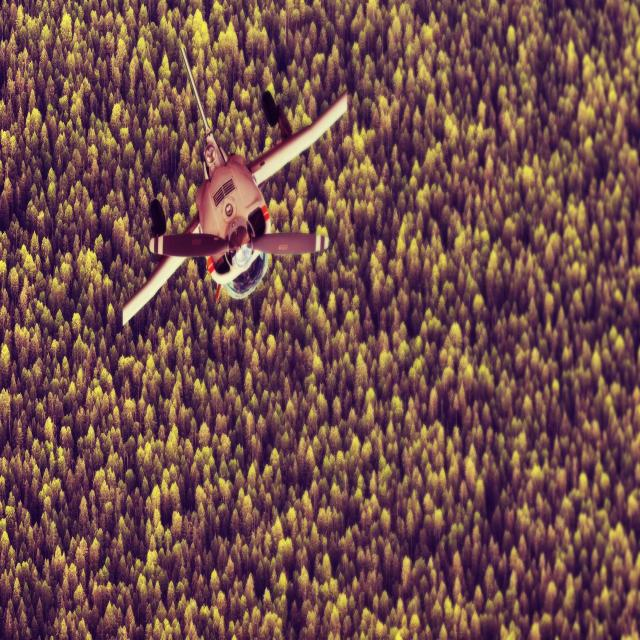airplane: (121, 40, 348, 328)
